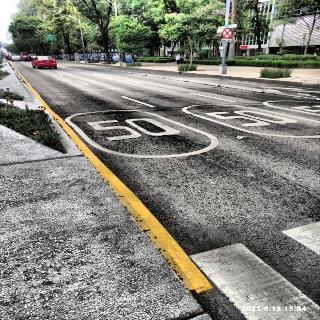crack: (56, 101, 216, 126), (235, 104, 280, 108)
